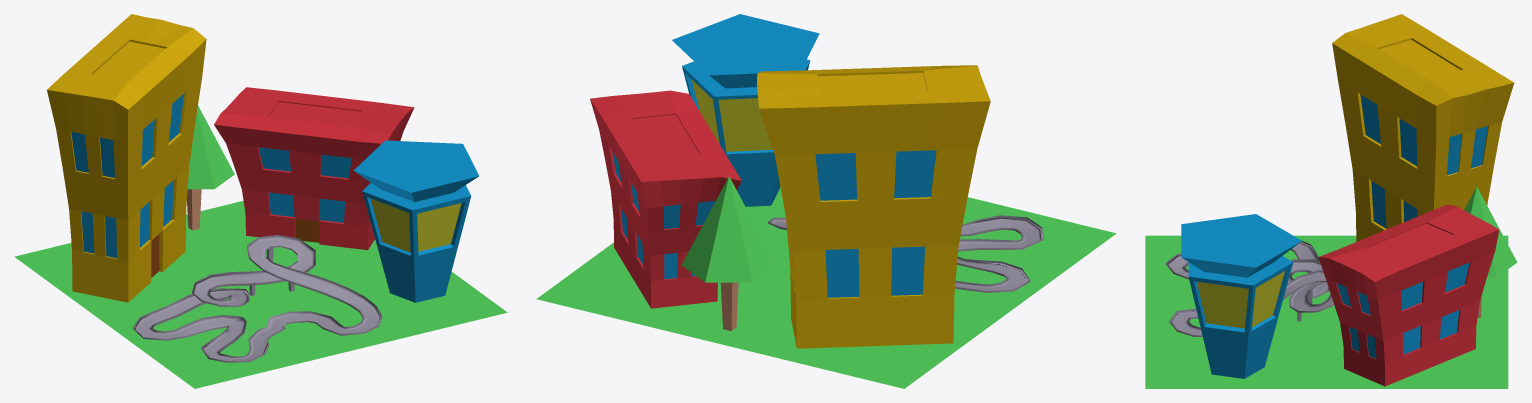
File: Racetrack Complete.fbx
The picture shows the model from 3 angles, left to right: view 1: azimuth 30°, elevation 25°; view 2: azimuth 150°, elevation 25°; view 3: azimuth 270°, elevation 25°; orthographic projection. The views are drawn at different scales.
Visible parts, largest first — view 1: RacingBuildingDoor, RacingMainGrass, RacingBuildingDoor.001, RacingBuildingWindows3, RacingBridgeC, RacingTreeT.001; view 2: RacingBuildingDoor, RacingMainGrass, RacingBuildingDoor.001, RacingBuildingWindows3, RacingTreeT.001, RacingBridgeC; view 3: RacingBuildingDoor, RacingBuildingDoor.001, RacingMainGrass, RacingBuildingWindows3, RacingBridgeC, RacingTreeT.001.
Boxes of the visible parts, x1,y1,x2,y2 form: RacingBuildingDoor: (47, 14, 206, 302); RacingMainGrass: (14, 201, 507, 388); RacingBuildingDoor.001: (214, 87, 414, 250); RacingBuildingWindows3: (353, 140, 478, 302); RacingBridgeC: (133, 235, 382, 362); RacingTreeT.001: (187, 106, 234, 230); RacingBuildingDoor: (757, 65, 990, 348); RacingMainGrass: (536, 187, 1116, 388); RacingBuildingDoor.001: (590, 90, 741, 308); RacingBuildingWindows3: (672, 14, 819, 206); RacingTreeT.001: (682, 176, 776, 330); RacingBridgeC: (768, 215, 1043, 292); RacingBuildingDoor: (1332, 14, 1514, 241); RacingBuildingDoor.001: (1318, 204, 1499, 386); RacingMainGrass: (1145, 235, 1508, 388); RacingBuildingWindows3: (1181, 214, 1301, 378); RacingBridgeC: (1166, 241, 1334, 336); RacingTreeT.001: (1464, 186, 1517, 317).
Size of the model in its own units: 2.26 by 1.39 by 2.05.
